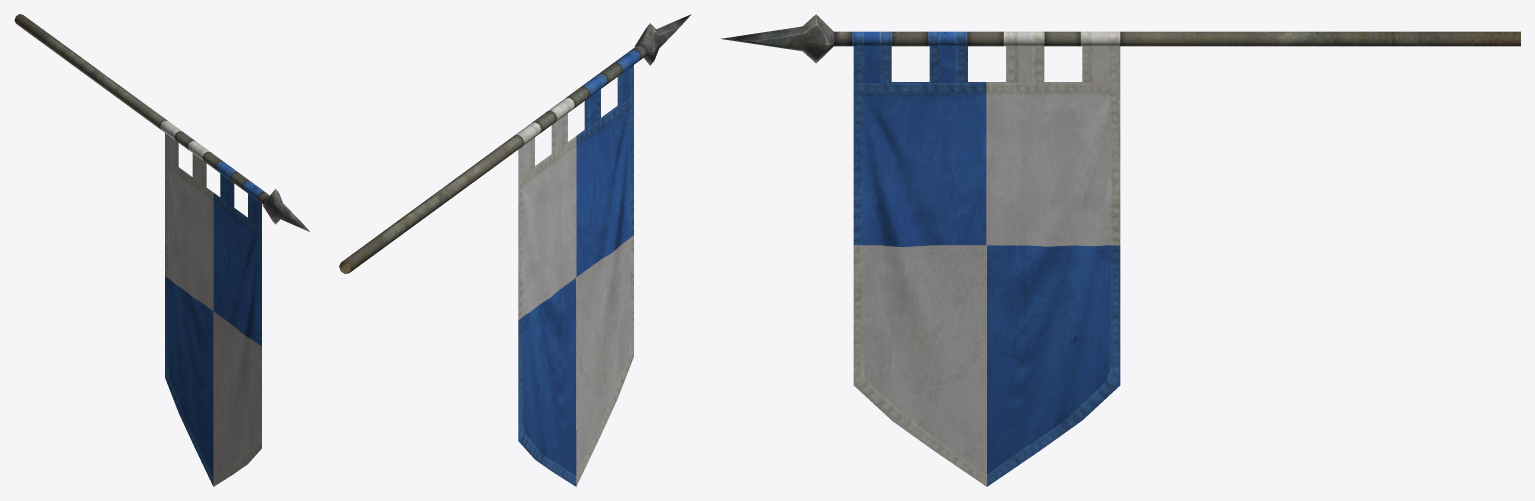
File: SM_HangingFlag_01.FBX
3 views of the same model, side by side, from view 1: azimuth 30°, elevation 25°; view 2: azimuth 150°, elevation 25°; view 3: azimuth 270°, elevation 25° (orthographic). The views are drawn at different scales.
Parts seen in each view (by area): view 1: SM_HangingFlag_01; view 2: SM_HangingFlag_01; view 3: SM_HangingFlag_01.
Boxes of the visible parts, left/top/right/bottom form: SM_HangingFlag_01: left=14, top=14, right=309, bottom=486; SM_HangingFlag_01: left=339, top=14, right=691, bottom=486; SM_HangingFlag_01: left=720, top=14, right=1520, bottom=486.
Size of what is drawn, in the model's own units: 4.92 by 150 by 97.75.
